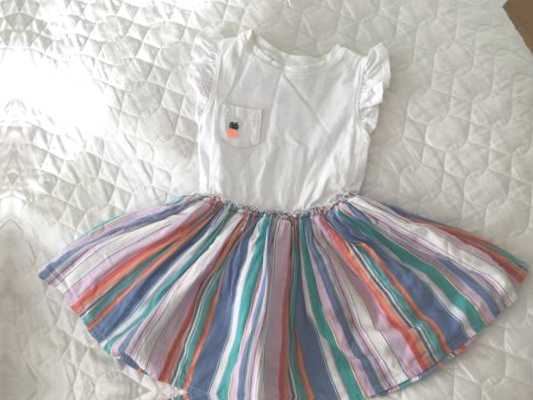Dress: (21, 19, 533, 400), (6, 392, 520, 400), (0, 0, 1, 379)
